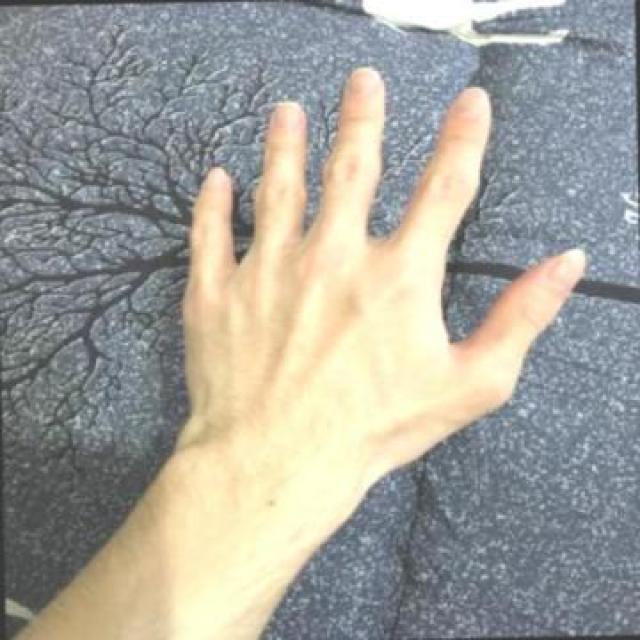no-gloves: (172, 65, 588, 452)
